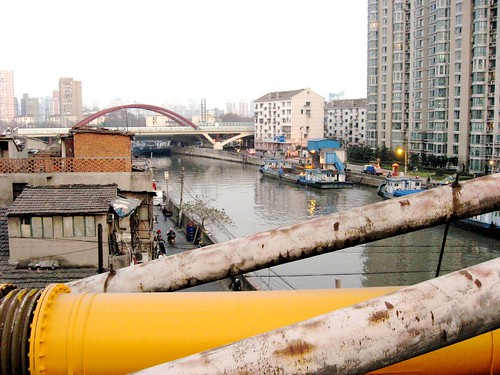boat: (252, 148, 351, 196)
bridge: (54, 97, 239, 156)
building: (5, 135, 142, 293), (377, 1, 500, 157), (253, 89, 321, 152), (321, 97, 368, 147), (54, 77, 82, 116), (19, 92, 40, 122), (1, 67, 11, 127)
river: (140, 145, 500, 293)
sky: (1, 1, 357, 95)
